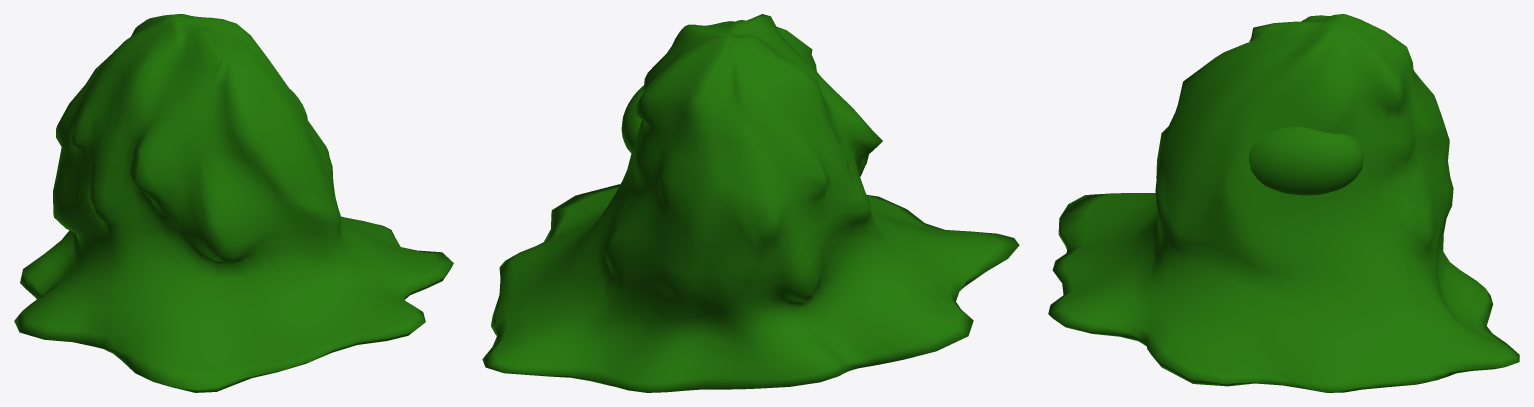
Rendered from Slime.fbx.
3 views of the same model, side by side, from view 1: azimuth 30°, elevation 25°; view 2: azimuth 150°, elevation 25°; view 3: azimuth 270°, elevation 25° (orthographic). The views are drawn at different scales.
Visible parts, largest first — view 1: Sphere; view 2: Sphere, Sphere.001; view 3: Sphere, Sphere.001.
Part boxes in pixels (x1,y1,x2,y2): Sphere: (14,14,453,392); Sphere: (482,14,1019,392); Sphere.001: (621,85,643,153); Sphere: (1048,14,1519,392); Sphere.001: (1249,127,1363,195).
Bounding box in the file's own units: 380 × 254 × 371.
